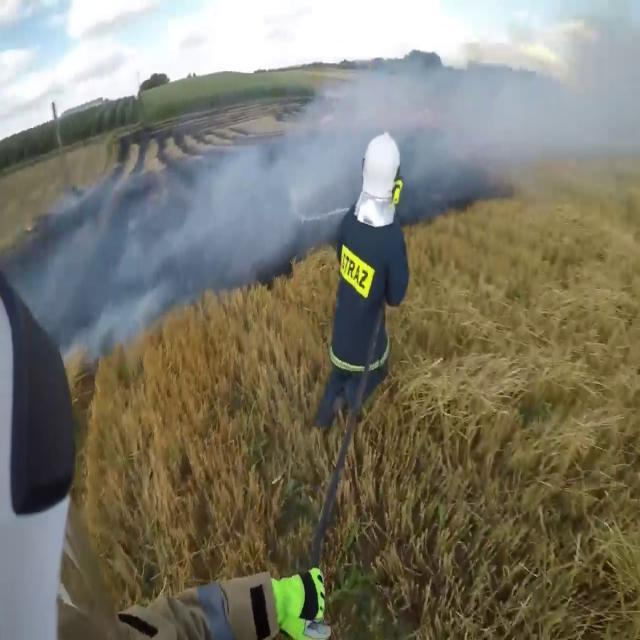Smoke: (158, 1, 640, 298)
